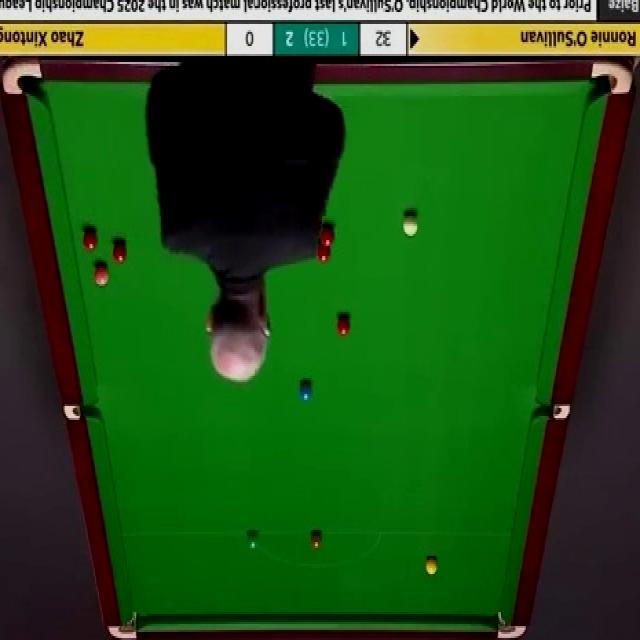blue-ball: (298, 382, 313, 403)
brown-ball: (310, 530, 323, 550)
green-ball: (244, 528, 260, 549)
pink-ball: (93, 262, 109, 288)
red-ball: (110, 240, 126, 264), (336, 314, 351, 336), (82, 228, 97, 250), (316, 246, 332, 263), (320, 232, 334, 248)
white-ball: (402, 213, 418, 237)
yellow-ball: (424, 554, 437, 575)
